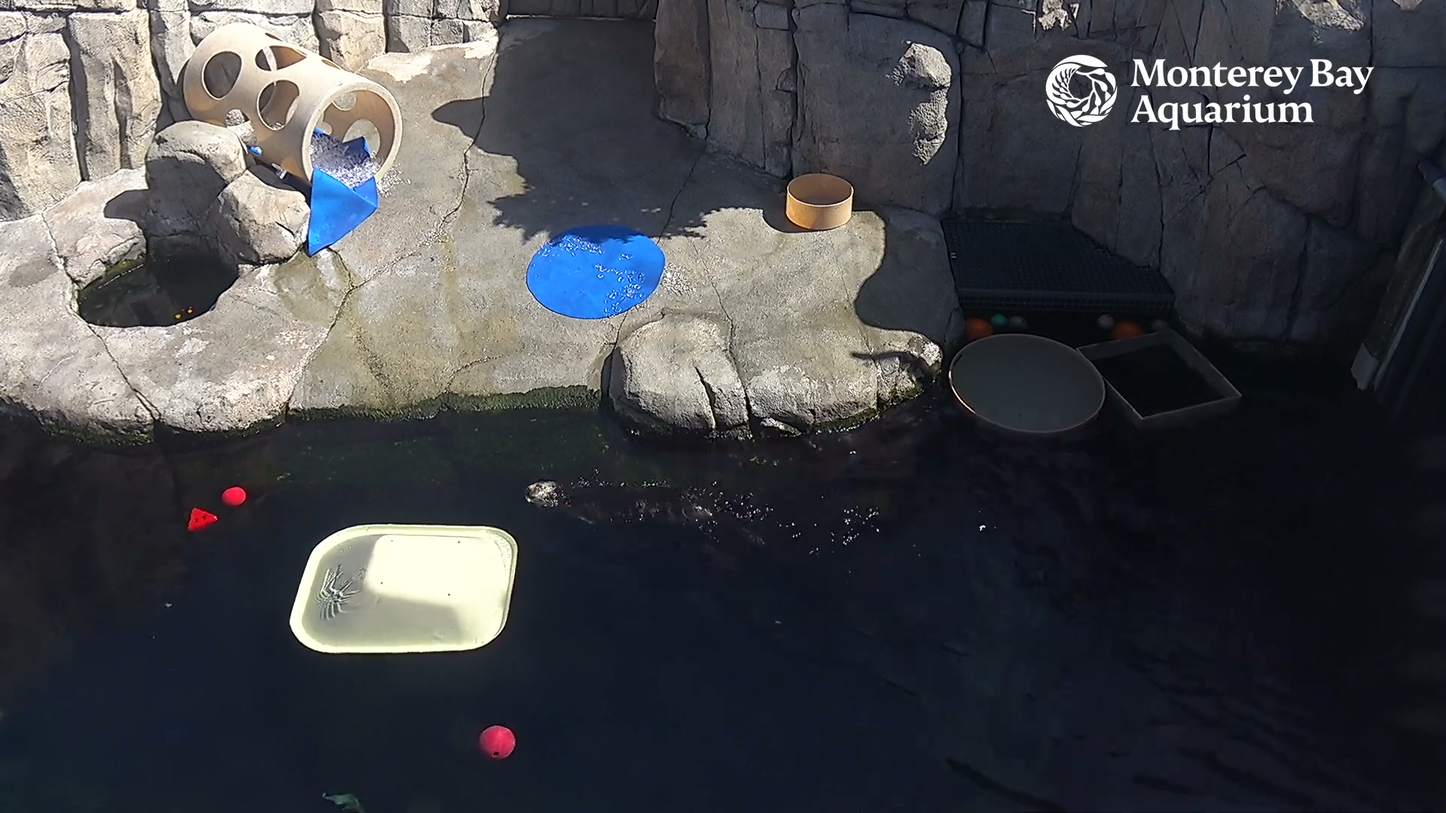Southern Sea Otter: (498, 448, 785, 539)
